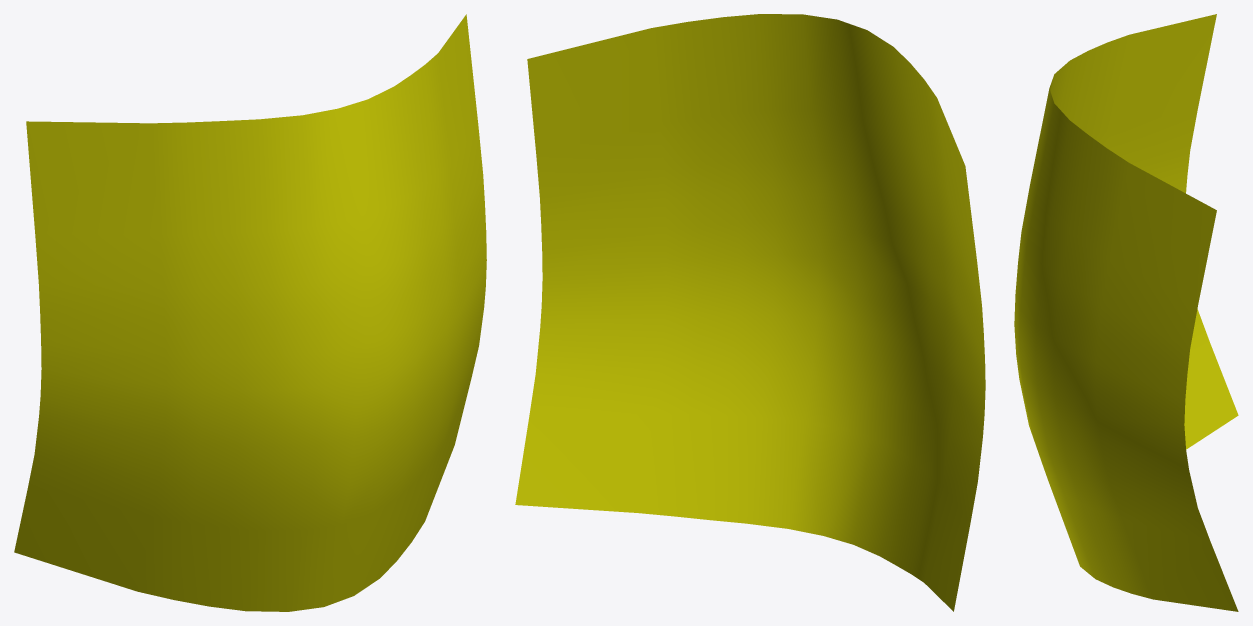
Rendered from Mask_8.glb.
The picture shows the model from 3 angles, left to right: view 1: azimuth 30°, elevation 25°; view 2: azimuth 150°, elevation 25°; view 3: azimuth 270°, elevation 25°; orthographic projection. The views are drawn at different scales.
Size of the model in its own units: 91.85 by 100 by 43.85.
